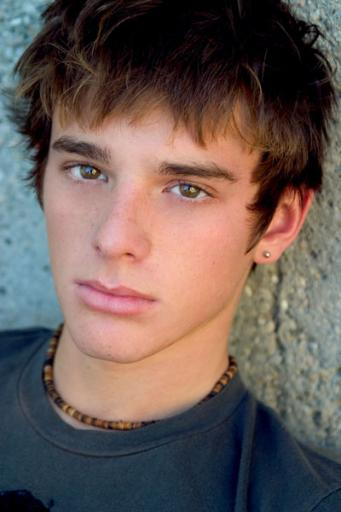left_eye: (163, 182, 218, 210)
left_lip_corner: (148, 293, 165, 312)
right_eye: (62, 163, 109, 190)
right_lip_corner: (72, 277, 86, 296)
